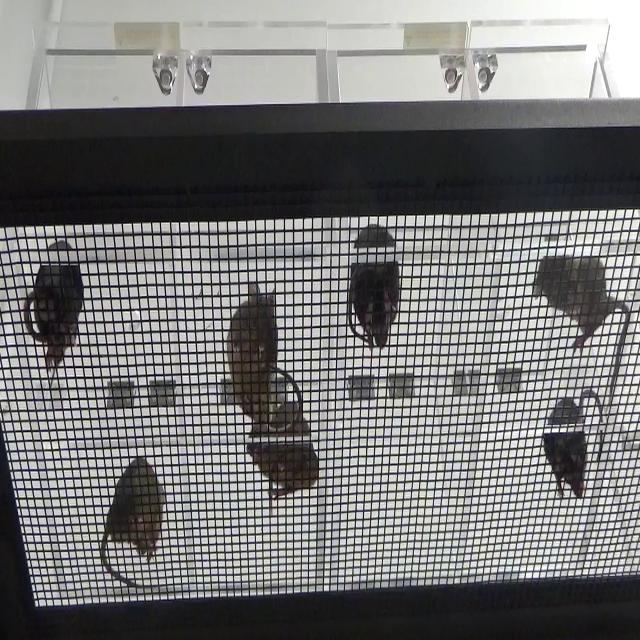lick tail: (17, 237, 86, 389)
